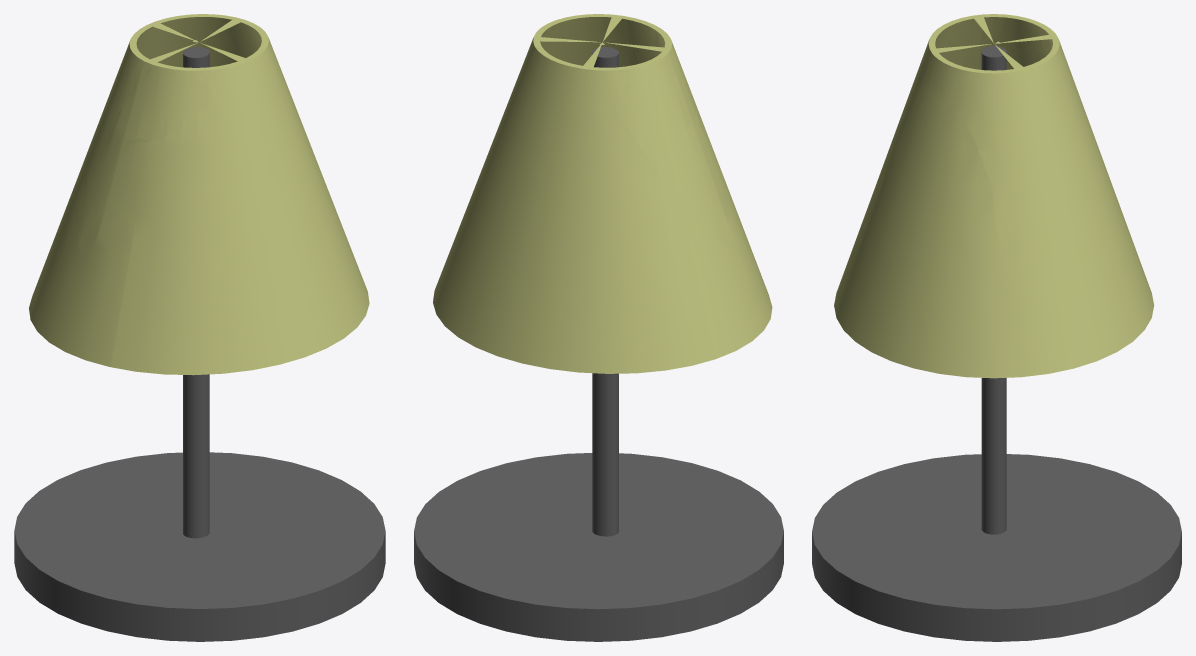
File: Lamp FBX.fbx
3 renders of one model, left to right at view 1: azimuth 30°, elevation 25°; view 2: azimuth 150°, elevation 25°; view 3: azimuth 270°, elevation 25°, orthographic.
Parts seen in each view (by area): view 1: Coney, Lamp, Baser; view 2: Coney, Lamp, Baser; view 3: Coney, Lamp, Baser.
Boxes of the visible parts, x1,y1,x2,y2 form: Coney: (29,14,369,375); Lamp: (14,452,385,641); Baser: (183,47,209,538); Coney: (433,14,772,373); Lamp: (414,453,783,641); Baser: (592,47,618,536); Coney: (834,14,1154,378); Lamp: (812,454,1181,641); Baser: (981,46,1006,534).
Size of the model in its own units: 34.64 by 54.37 by 34.77.
